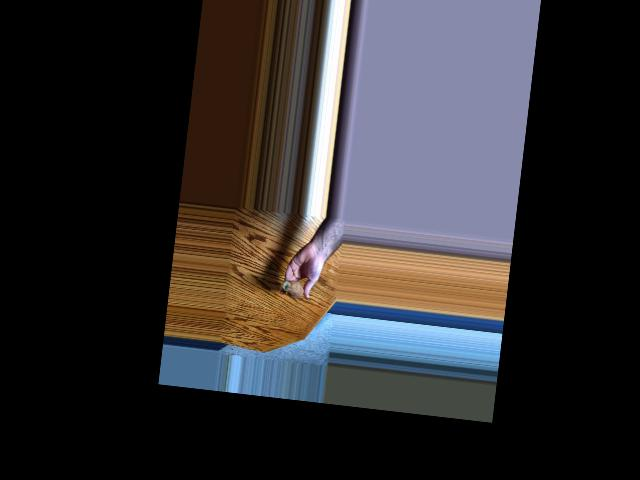sweet_potato: (280, 279, 307, 307)
